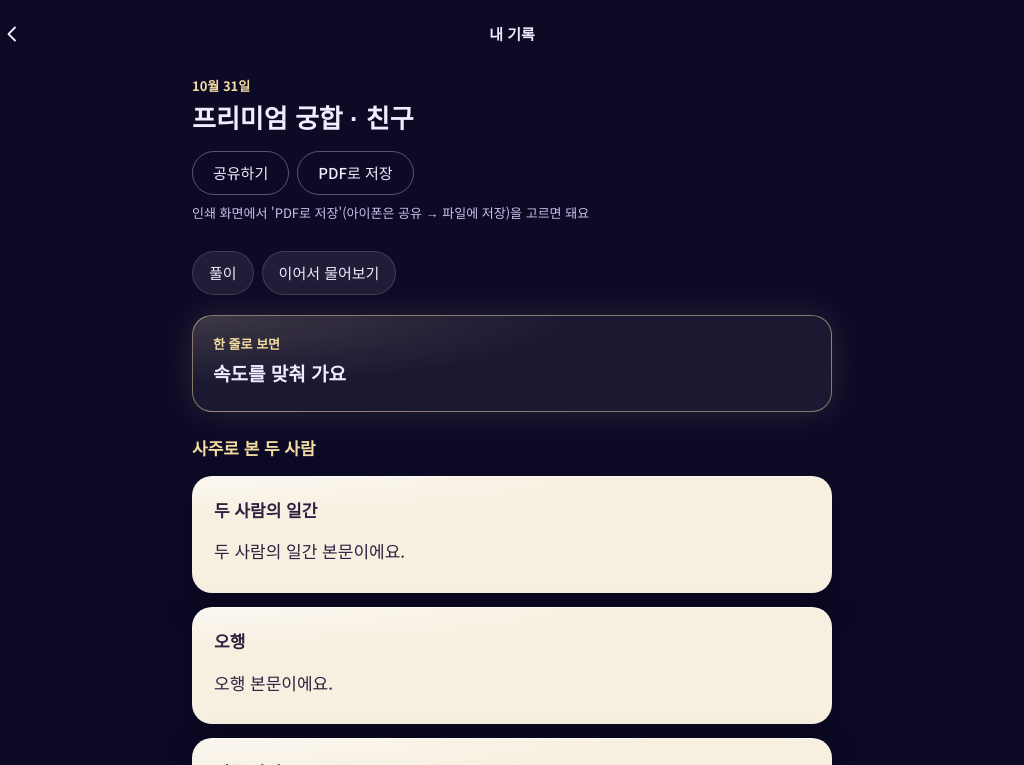
sharing a premium record › a 궁합 from the account carries no token: 공유하기 still shows and says where it can be shared
The image size is (1024, 765).
Click the button "공유하기".
click(241, 173)  # box [192,151,289,195]
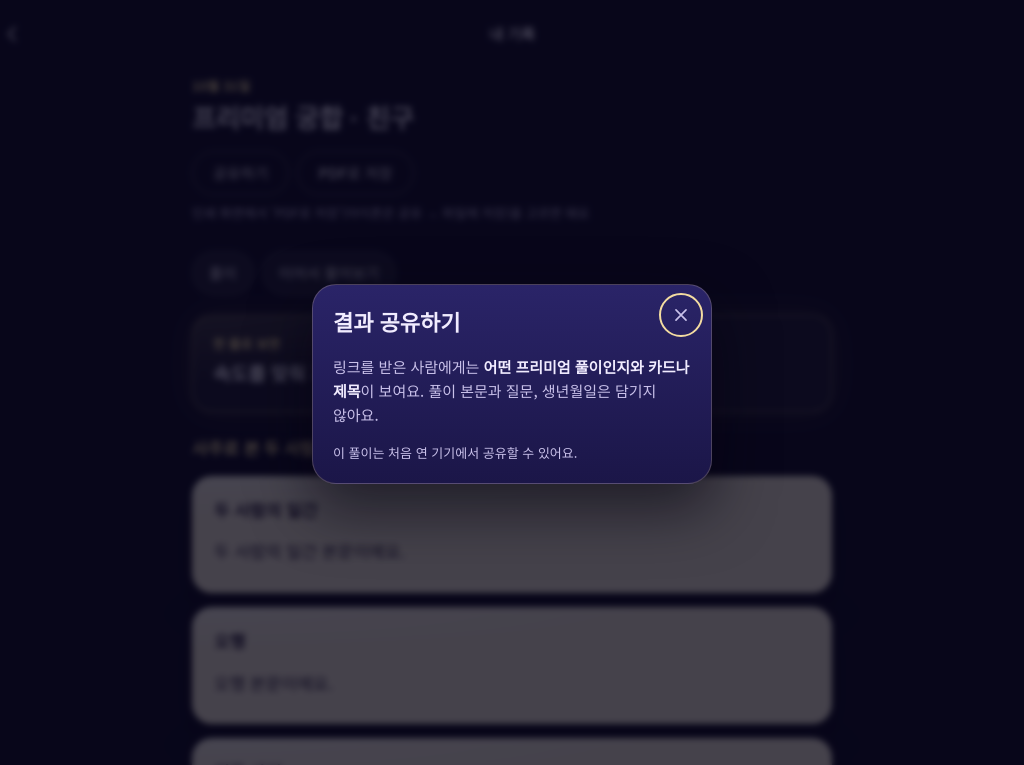
Expected: the dialog "결과 공유하기" shows "이 풀이는 처음 연 기기에서 공유할 수 있어요", [333,443,577,462]
